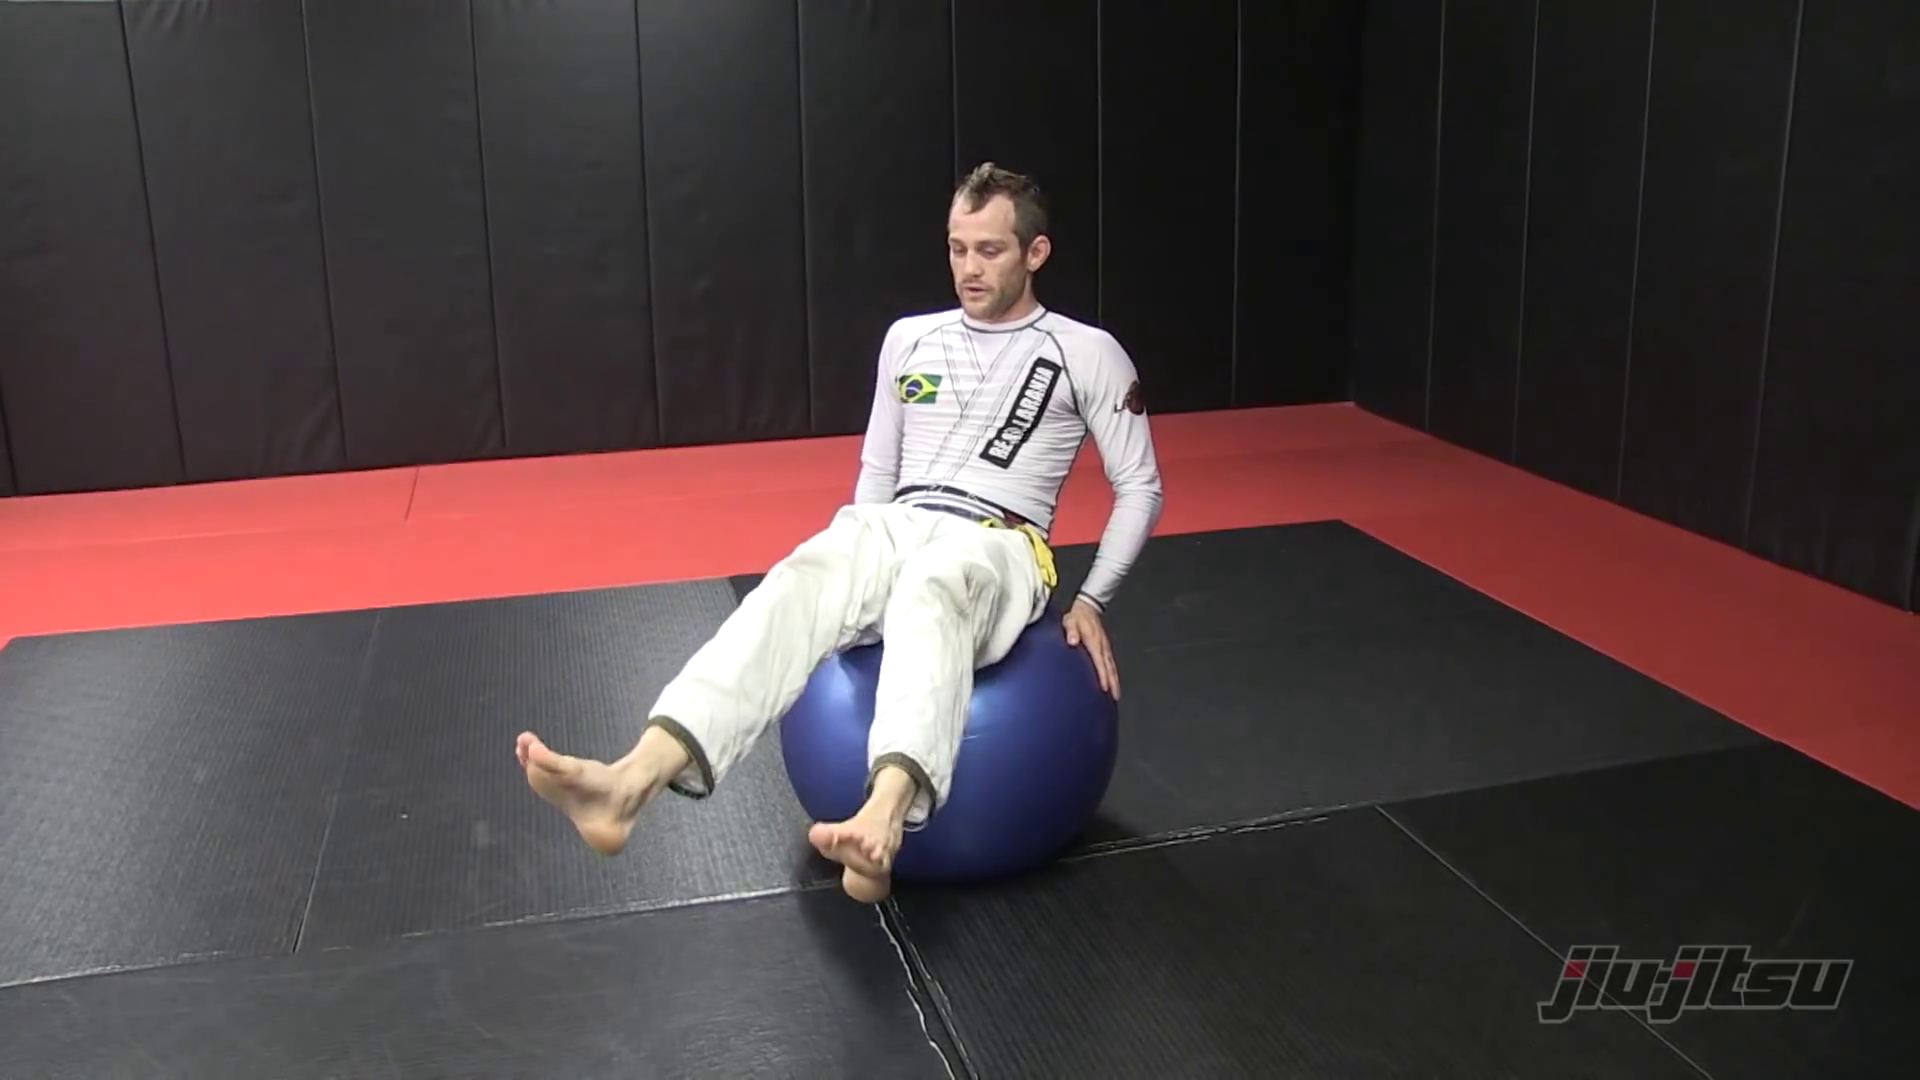yogaball: (767, 574, 1135, 903)
